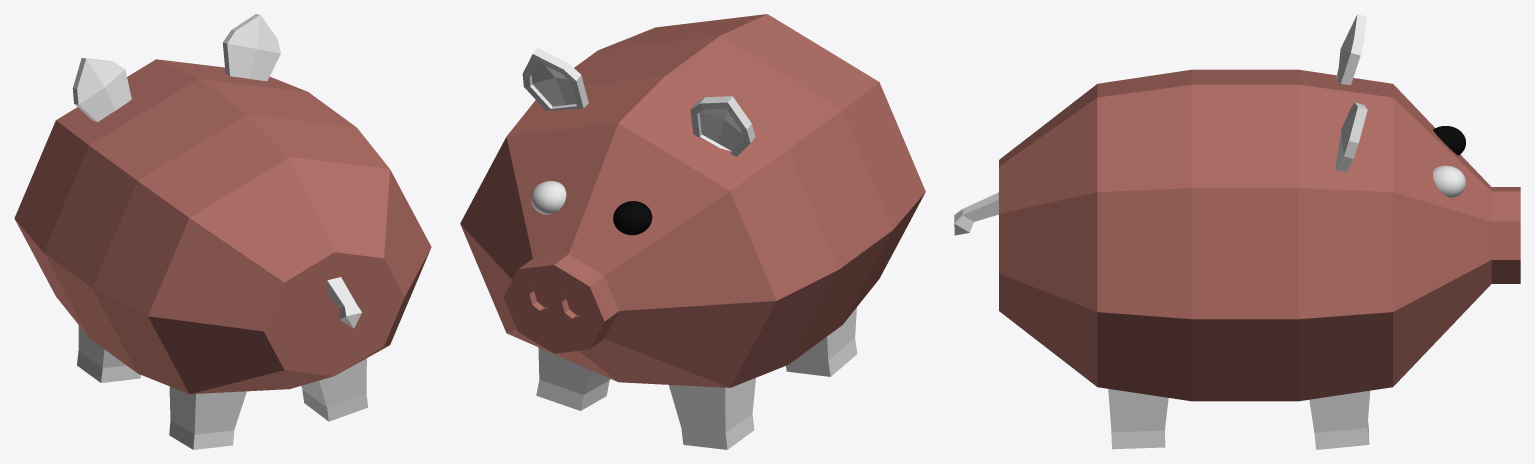
The model's file is Pig.fbx.
The picture shows the model from 3 angles, left to right: view 1: azimuth 30°, elevation 25°; view 2: azimuth 150°, elevation 25°; view 3: azimuth 270°, elevation 25°; orthographic projection. The views are drawn at different scales.
Visible parts, largest first — view 1: Pig, Pig_3, Pig_7, Pig_6, Pig_4, Pig_1, Pig_5; view 2: Pig, Pig_1, Pig_2, Pig_7, Pig_6, Pig_3, Pig_8, Pig_9; view 3: Pig, Pig_4, Pig_2, Pig_7, Pig_6, Pig_5, Pig_9, Pig_8.
Boxes of the visible parts, x1,y1,x2,y2 form: Pig: [14, 59, 431, 394]; Pig_3: [169, 386, 246, 449]; Pig_7: [222, 14, 280, 81]; Pig_6: [72, 58, 131, 122]; Pig_4: [301, 358, 368, 421]; Pig_1: [77, 325, 140, 382]; Pig_5: [327, 277, 361, 328]; Pig: [460, 14, 925, 387]; Pig_1: [669, 378, 755, 449]; Pig_2: [536, 347, 609, 410]; Pig_7: [522, 47, 588, 110]; Pig_6: [690, 96, 755, 156]; Pig_3: [786, 307, 857, 376]; Pig_8: [613, 201, 652, 235]; Pig_9: [530, 181, 566, 214]; Pig: [999, 69, 1520, 401]; Pig_4: [1108, 389, 1168, 449]; Pig_2: [1309, 390, 1370, 449]; Pig_7: [1335, 102, 1367, 172]; Pig_6: [1336, 14, 1366, 85]; Pig_5: [954, 192, 998, 235]; Pig_9: [1433, 165, 1465, 197]; Pig_8: [1433, 126, 1465, 155].
Size of the model in its own units: 2.19 by 3.12 by 2.17.
